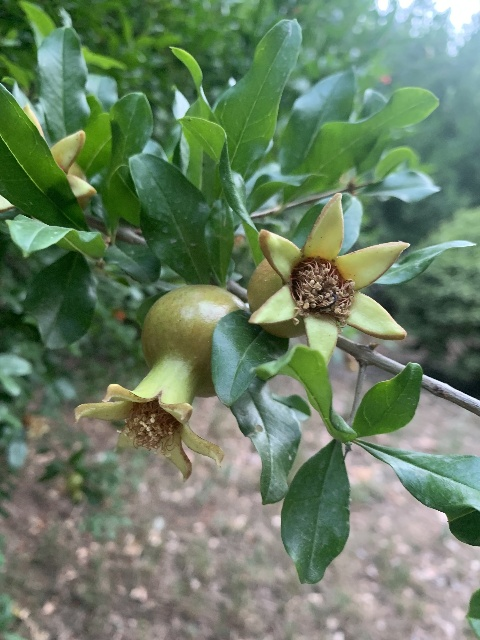early-fruit: (247, 193, 410, 368)
mid-growth: (73, 284, 244, 481)
